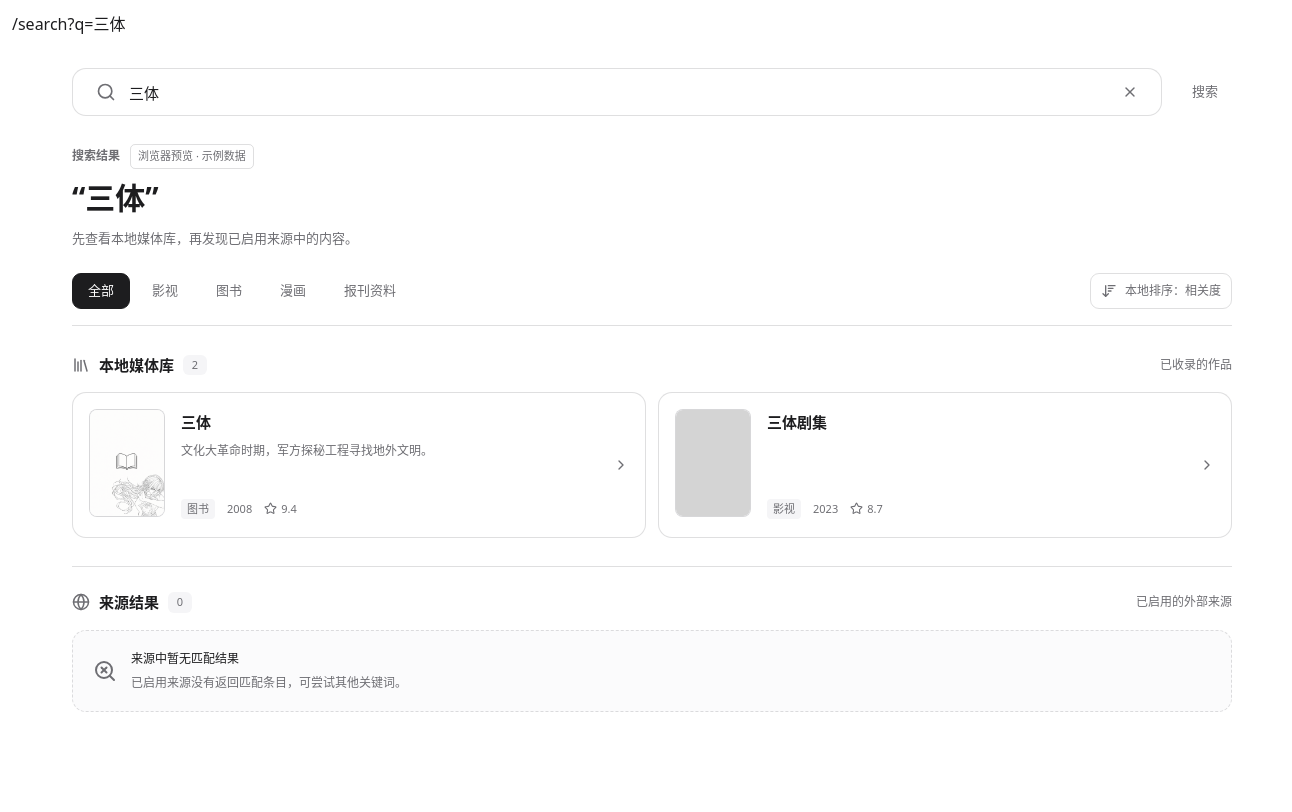
Test: SearchPage result presentation and existing actions › clears submitted results and URL when the input is erased by keyboard
The image size is (1292, 812).
Clear the field with placeholder "搜索本地媒体库" at [617, 92], box [72,68,1162,116]
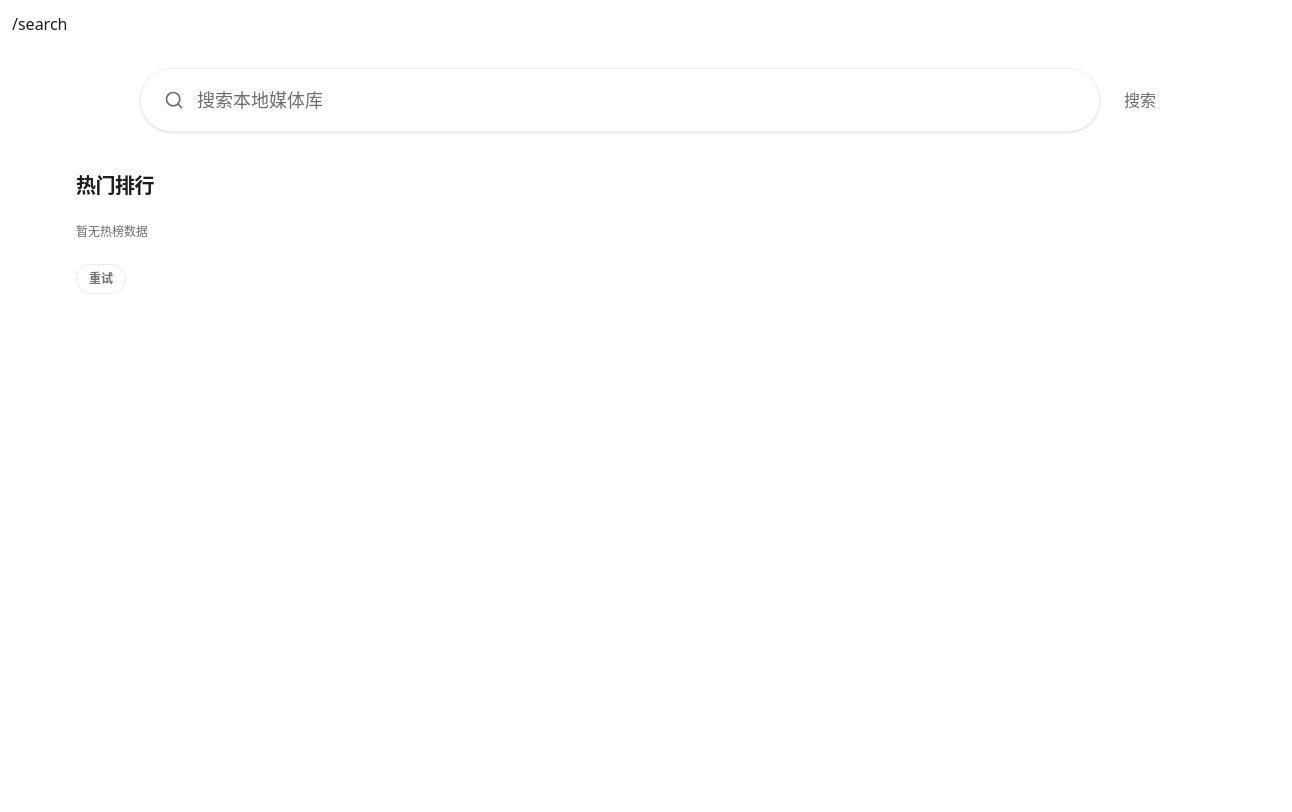
Now the heading "热门排行" is shown, box [76,172,154,199]
Now the heading "来源结果" is gone
Now the text with test id "location" no longer shows "q="
